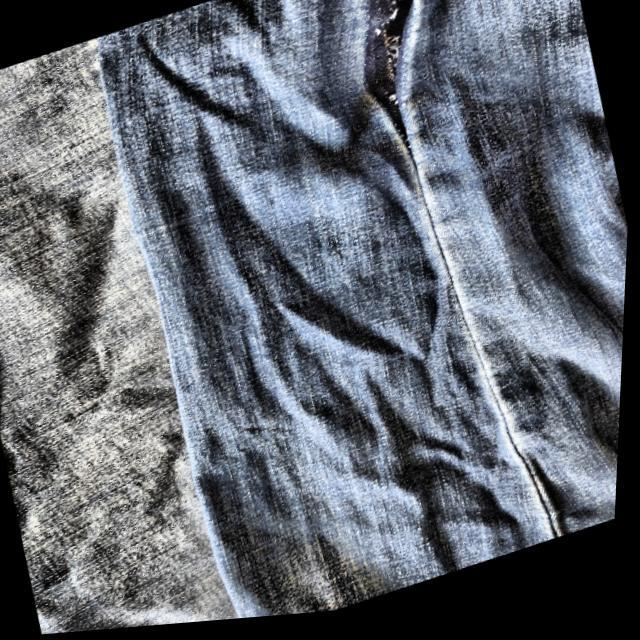hole: (365, 2, 410, 133)
seam: (402, 135, 563, 541)
